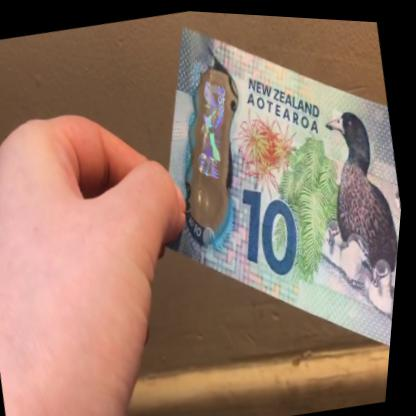10F: (181, 70, 250, 185)
